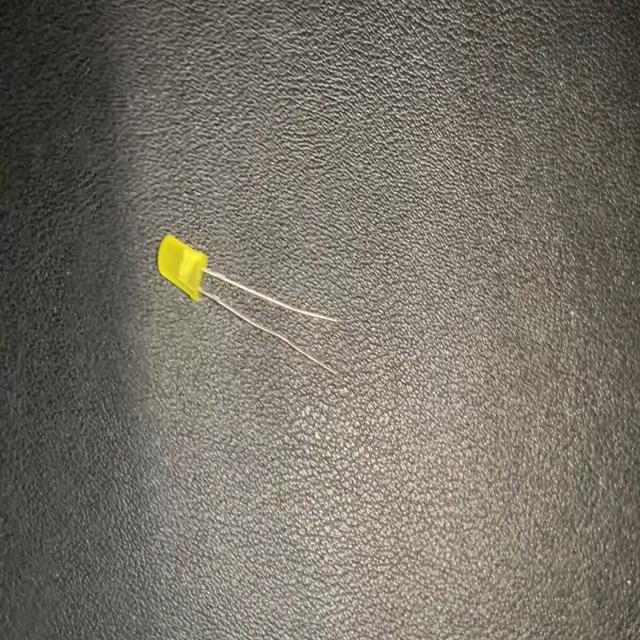LED: (156, 230, 342, 381)
